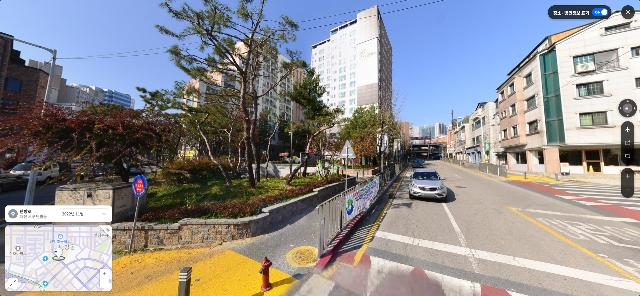other: (152, 1, 312, 189), (0, 97, 183, 185), (135, 85, 236, 186), (284, 64, 346, 186), (372, 79, 408, 183), (339, 105, 391, 168), (232, 109, 281, 163), (305, 131, 341, 180)
